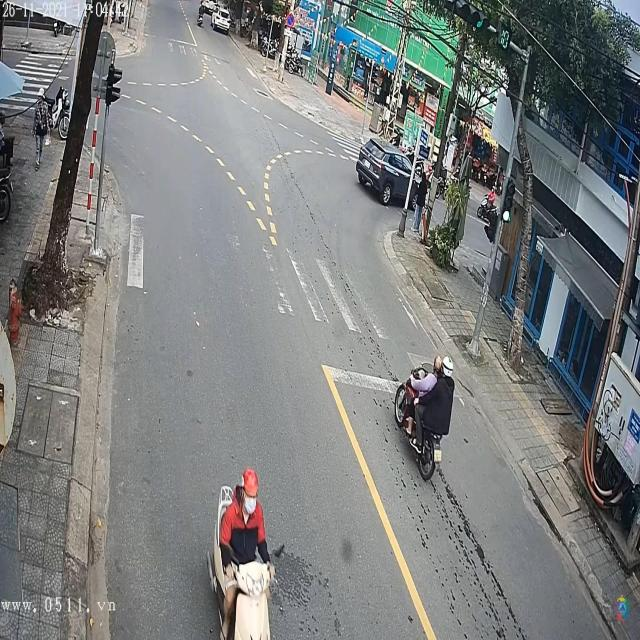car: (355, 138, 420, 207)
motorcycle: (394, 365, 446, 480)
